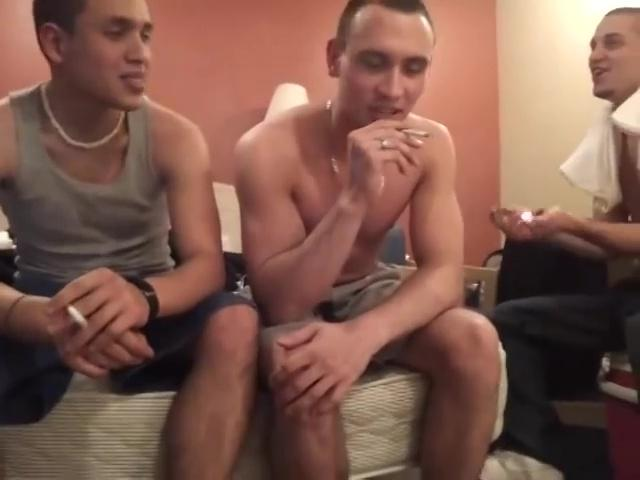cigarette: (63, 300, 90, 329), (393, 127, 436, 144)
